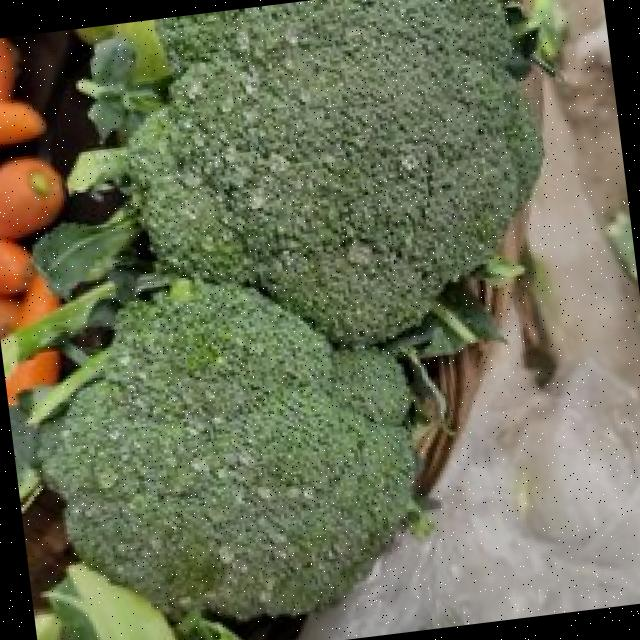Broccoli: (129, 0, 536, 343), (130, 0, 536, 342), (40, 281, 413, 616), (38, 282, 413, 610)
